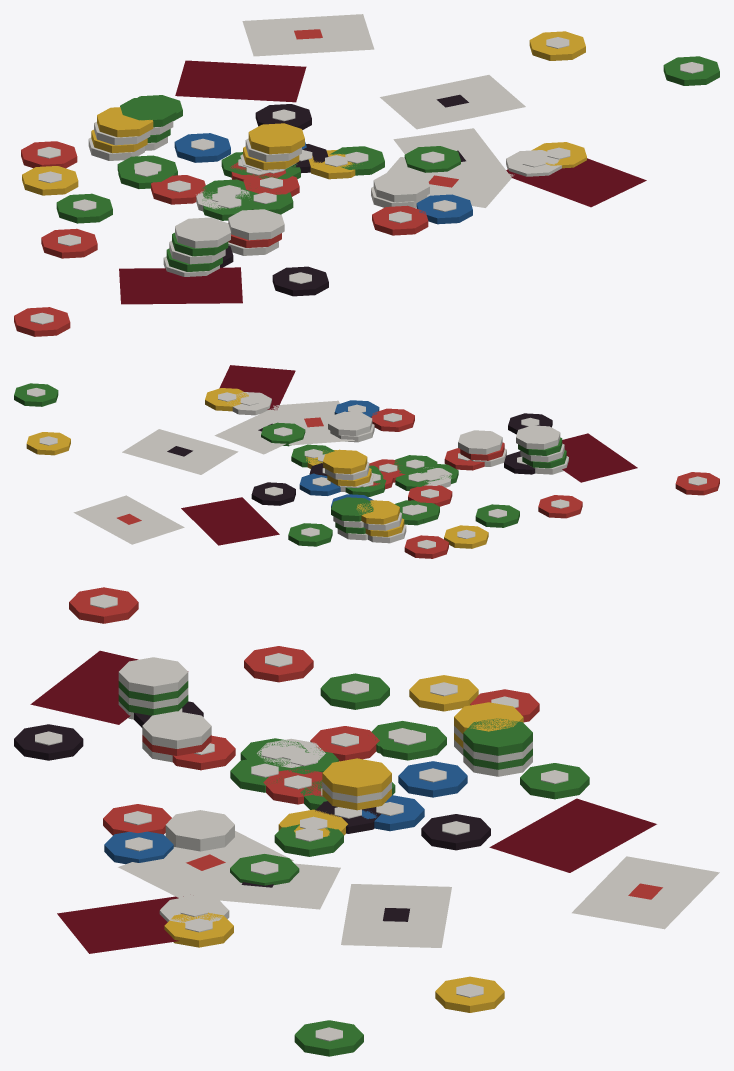
File: cc_mess.glb
3 renders of one model, top to bottom at view 1: azimuth 30°, elevation 25°; view 2: azimuth 150°, elevation 25°; view 3: azimuth 270°, elevation 25°, orthographic. The views are drawn at different scales.
Parts seen in each view (by area): view 1: cc_mess; view 2: cc_mess; view 3: cc_mess.
Part boxes in pixels (box(x1,y1,x2,y2)): cc_mess: box(14, 14, 719, 336); cc_mess: box(14, 365, 719, 558); cc_mess: box(14, 587, 719, 1056).
Bounding box in the file's own units: 3.46 × 0.15 × 2.24.
